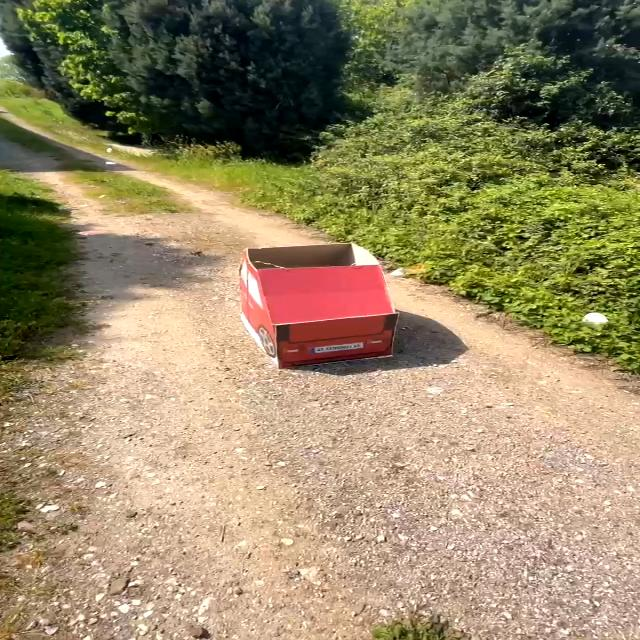red_car: (205, 227, 439, 390)
